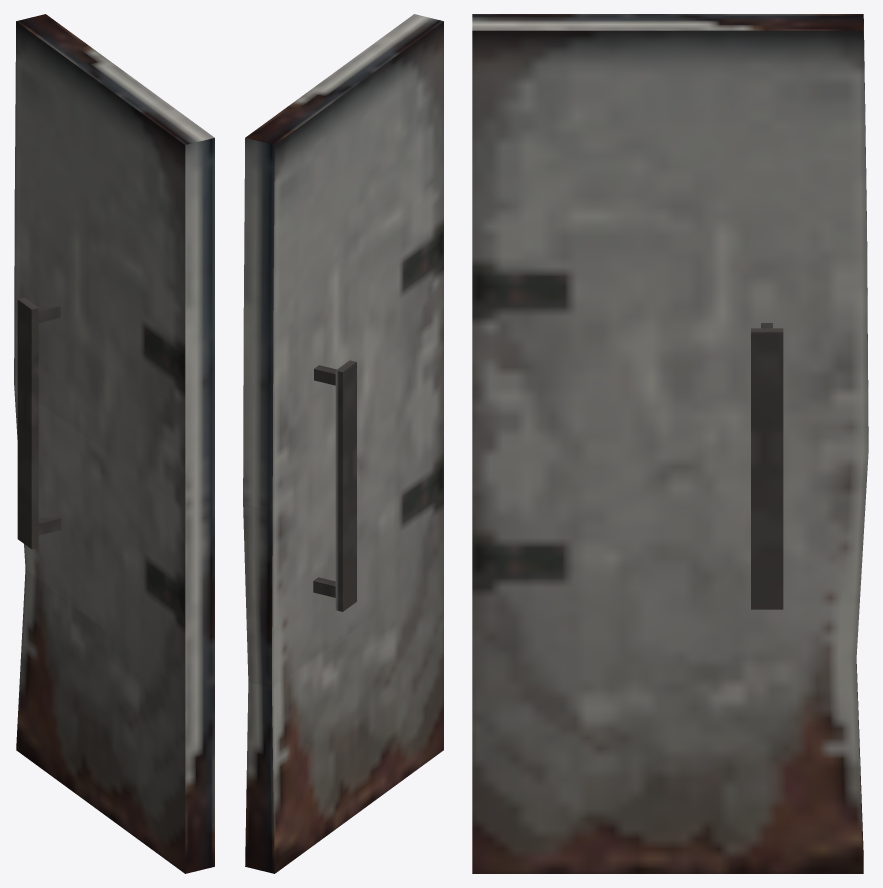
Rendered from SM_DOOR_B04.fbx.
3 renders of one model, left to right at view 1: azimuth 30°, elevation 25°; view 2: azimuth 150°, elevation 25°; view 3: azimuth 270°, elevation 25°, orthographic. The views are drawn at different scales.
Parts seen in each view (by area): view 1: SM_DOOR_B04; view 2: SM_DOOR_B04; view 3: SM_DOOR_B04.
Part boxes in pixels (x1,y1,x2,y2): SM_DOOR_B04: [14, 14, 214, 873]; SM_DOOR_B04: [243, 14, 443, 873]; SM_DOOR_B04: [472, 14, 868, 873].
Bounding box in the file's own units: 0.3246 × 2.35 × 1.
